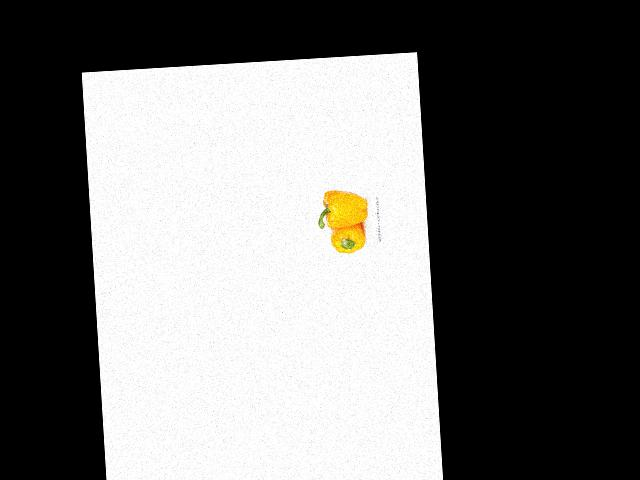bell_pepper: (327, 221, 367, 255)
